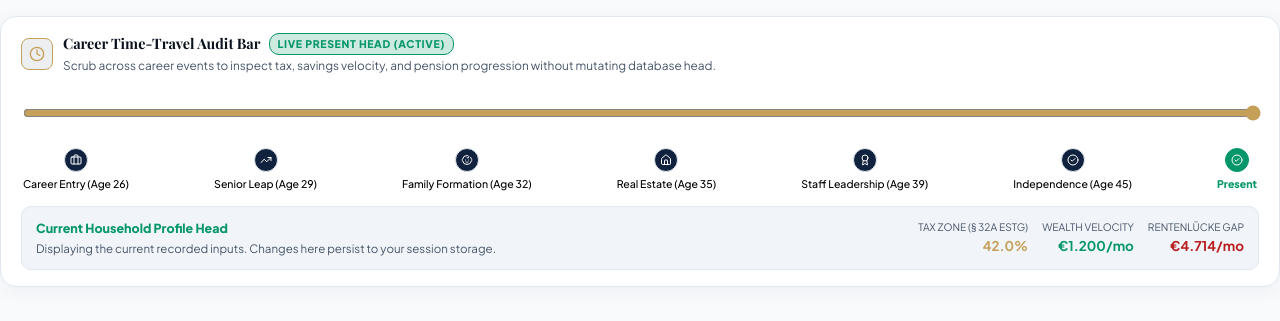
Scenario: TimeTravelScrubBar (Event Sourcing & Career Scrubbing R3) › returns to live head and clears scenario overrides when clicking Return to Live Head
This screenshot has width=1280, height=321.
# Scrub to Milestone 1
Set the slider with test id "time-travel-slider" to "1": (235, 113) [23, 91, 1261, 135]
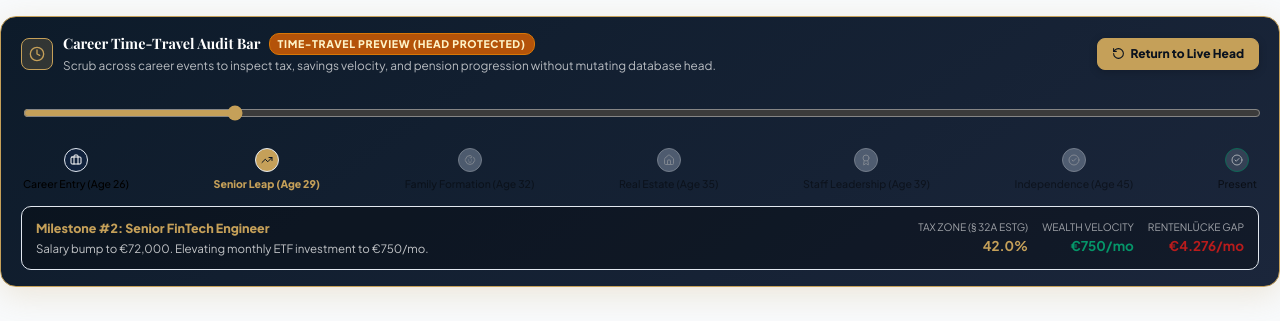
# Click Return to Live Head button
Click the button "Return to Live Head": (1178, 54) [1096, 38, 1259, 70]
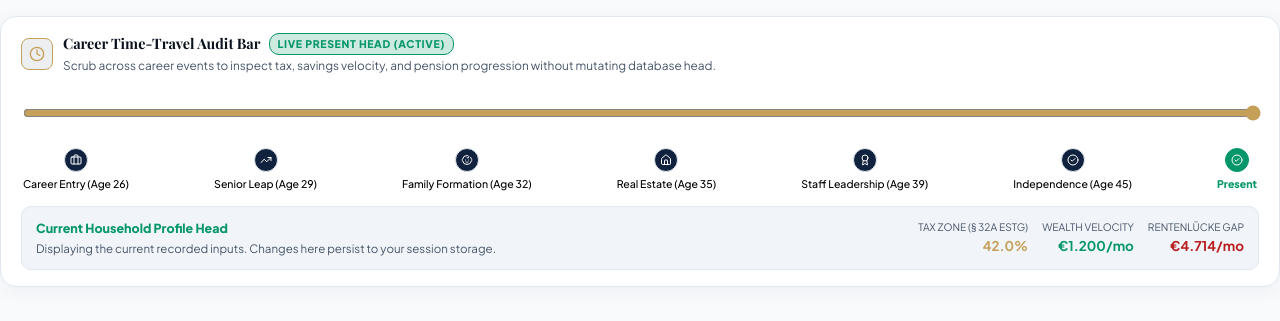
Expected: the text "LIVE PRESENT HEAD (ACTIVE)" is shown, [269, 33, 454, 55]
